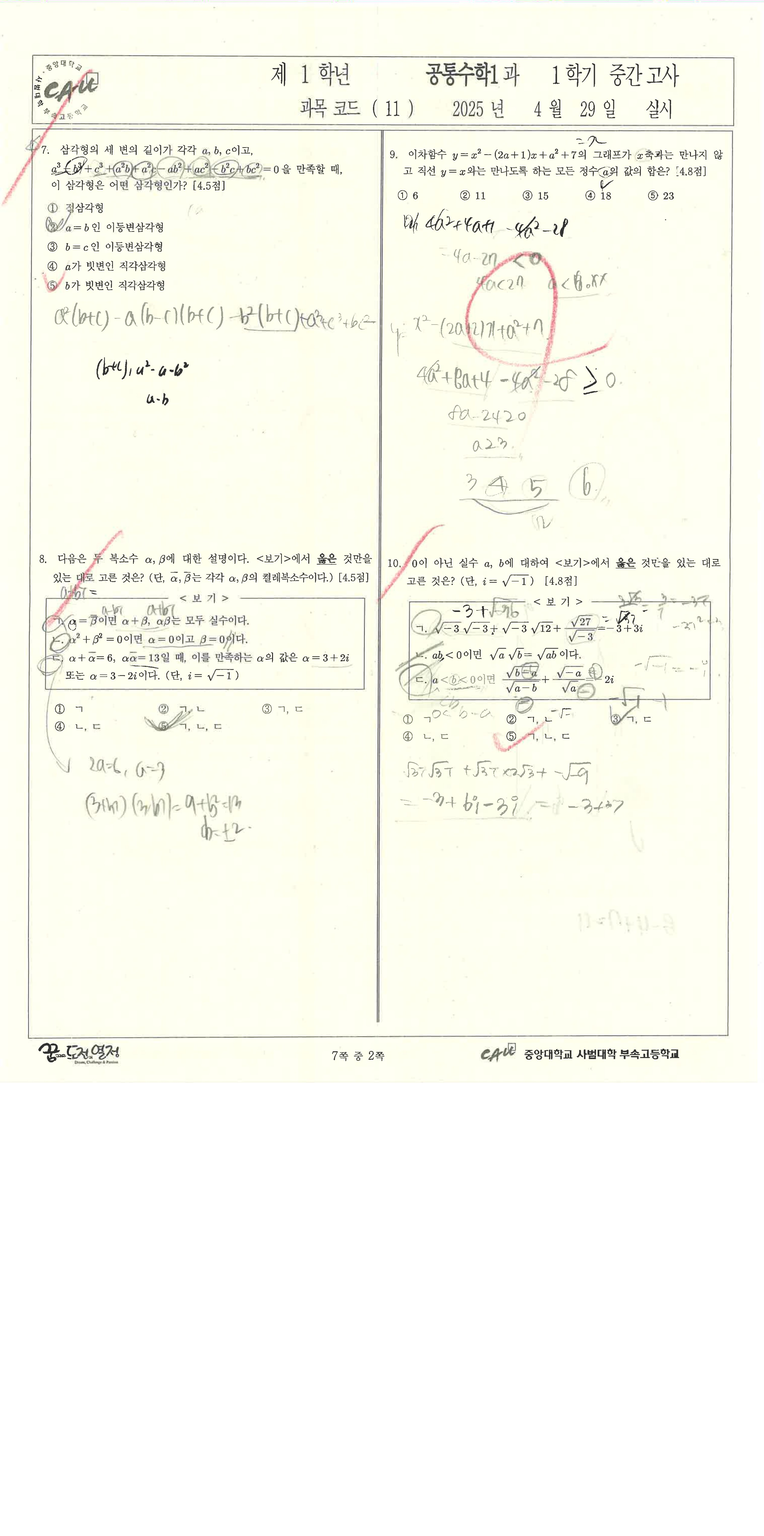problem: (386, 545, 718, 750), (30, 543, 372, 737), (35, 132, 347, 296), (384, 139, 726, 206)
